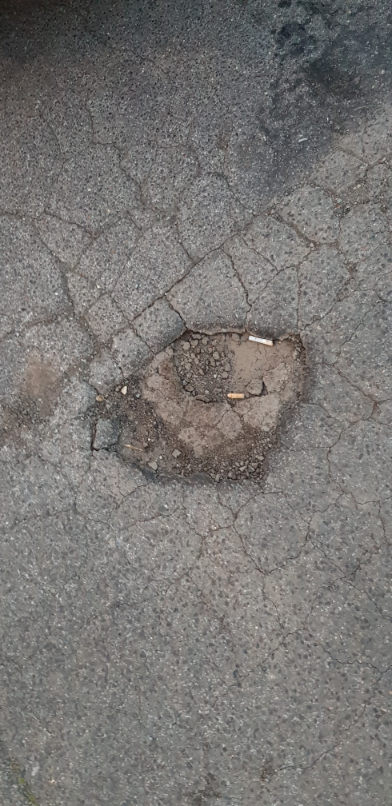pothole: (90, 312, 317, 490)
